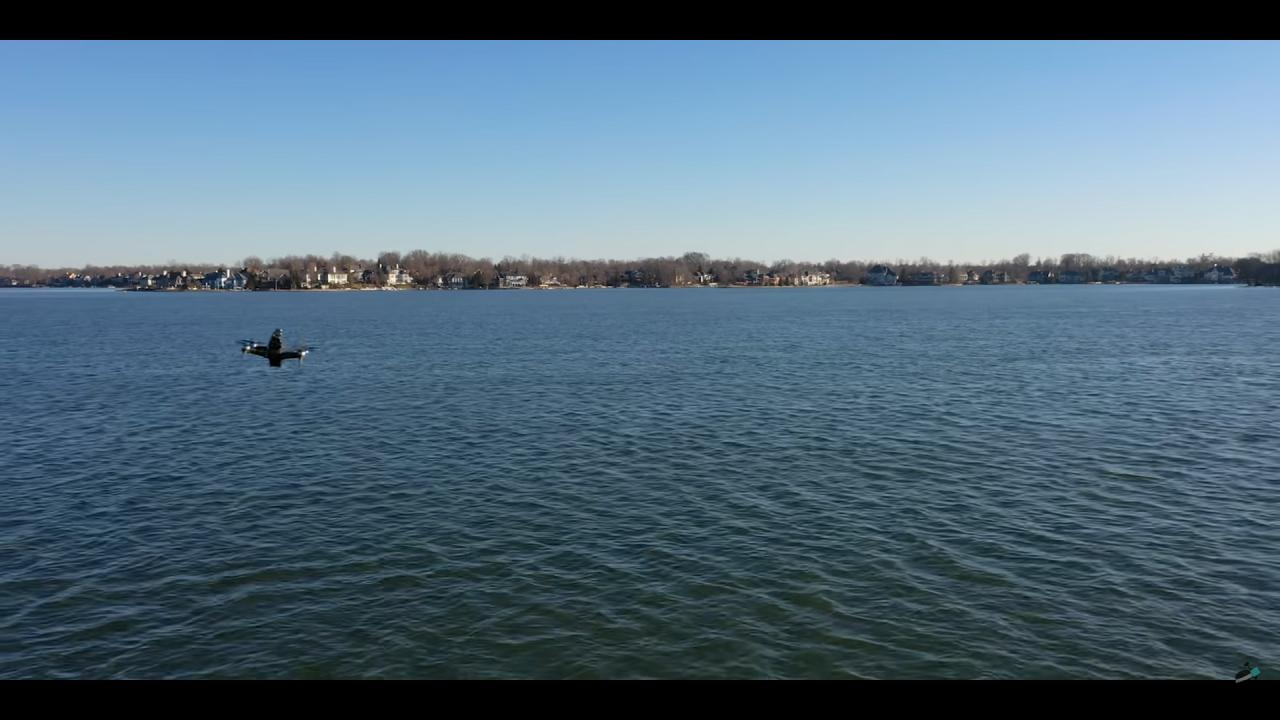Drone: (224, 319, 331, 378)
